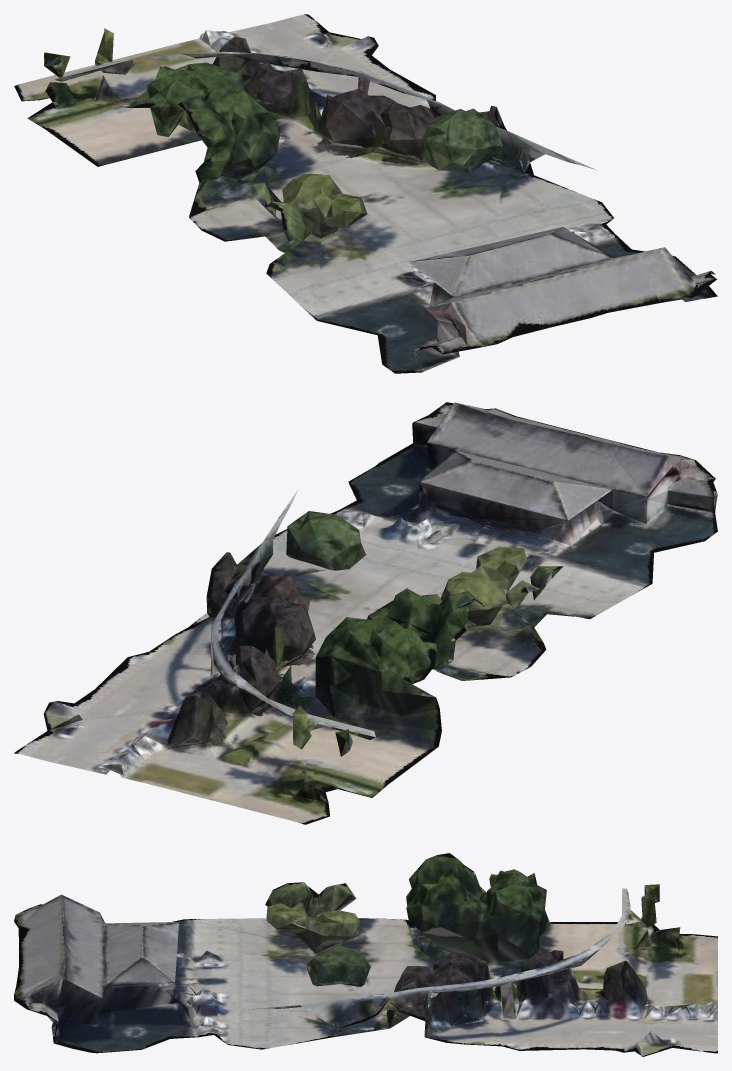
3 views of the same model, one above another, from view 1: azimuth 30°, elevation 25°; view 2: azimuth 150°, elevation 25°; view 3: azimuth 270°, elevation 25° (orthographic). The views are drawn at different scales.
Size of the model in its own units: 49.15 by 14.93 by 109.
1 material, 1 textured.
